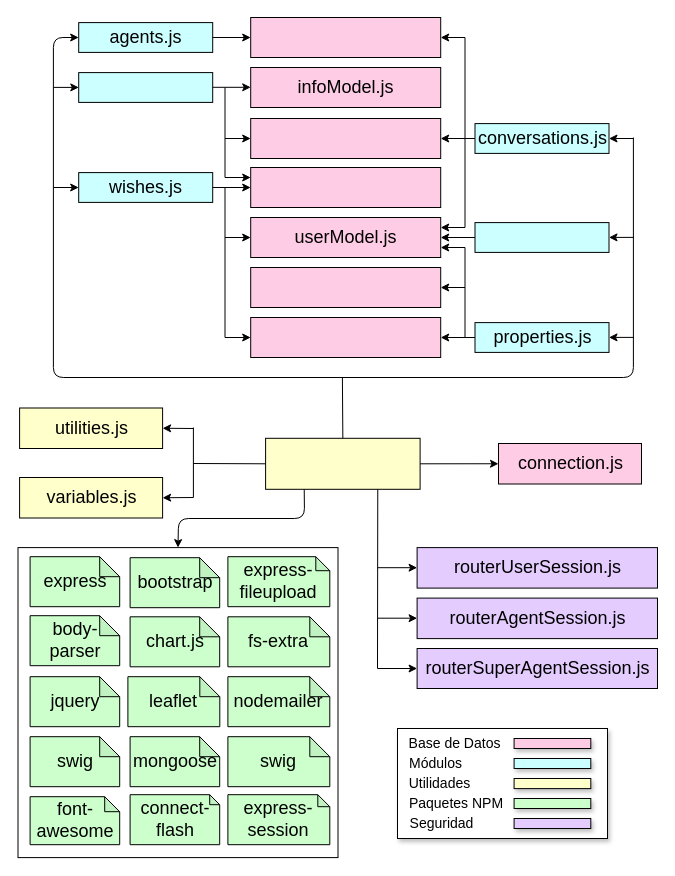
Image size: 675x876. Some labels were removed from this diagram. The centre of each missing label's shape, as x and y in pixels:
"agentModel.js" goes at point 345,37.
"app.js" goes at point 342,463.
"conversationModel.js" goes at point 345,138.
"loggerModel.js" goes at point 345,187.
"ownerModel.js" goes at point 345,287.
"propertyModel.js" goes at point 345,337.
"system.js" goes at point 145,87.
"users.js" goes at point 541,237.
